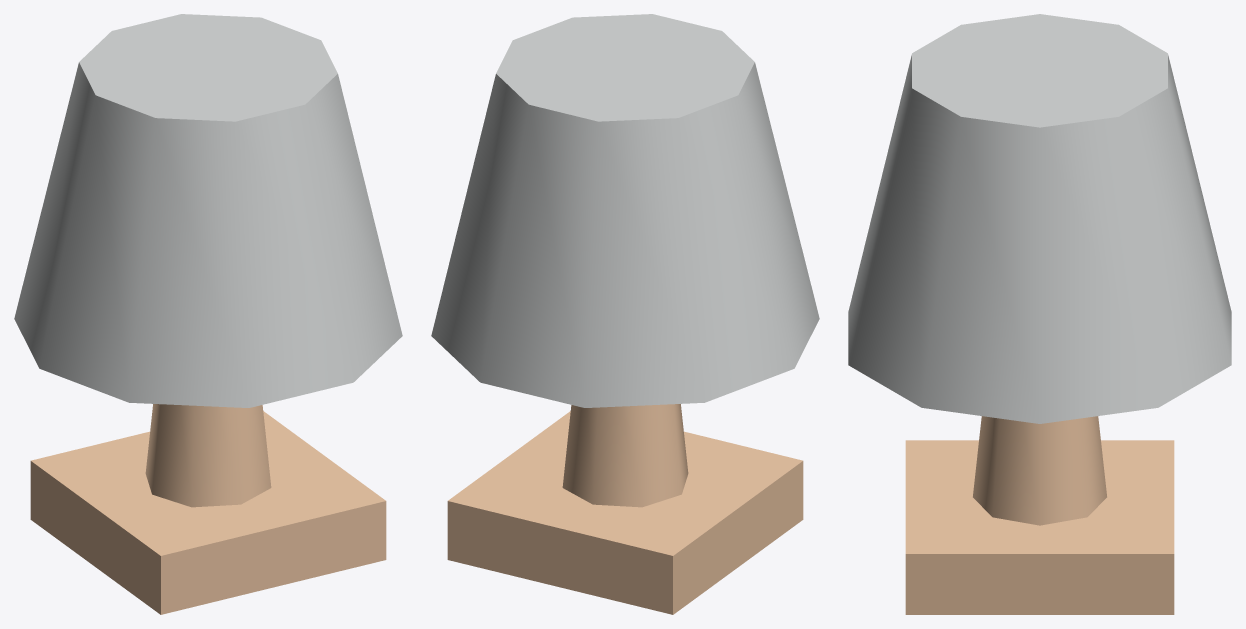
Rendered from lampBedside.glb.
3 renders of one model, left to right at view 1: azimuth 30°, elevation 25°; view 2: azimuth 150°, elevation 25°; view 3: azimuth 270°, elevation 25°, orthographic. The views are drawn at different scales.
Visible parts, largest first — view 1: lampBedside; view 2: lampBedside; view 3: lampBedside.
Boxes of the visible parts, x1,y1,x2,y2 form: lampBedside: [14, 14, 402, 614]; lampBedside: [431, 14, 819, 614]; lampBedside: [848, 14, 1231, 614].
Size of the model in its own units: 0.15 by 0.2 by 0.1427.
